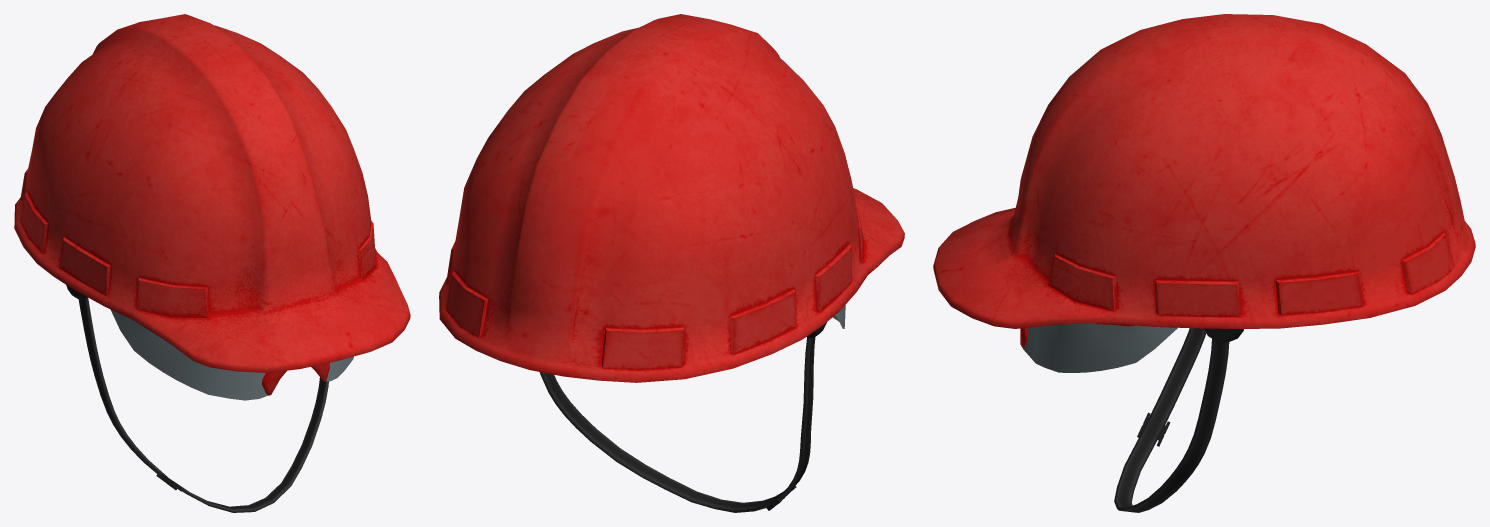
Rendered from CascoDielectrico.fbx.
3 views of the same model, side by side, from view 1: azimuth 30°, elevation 25°; view 2: azimuth 150°, elevation 25°; view 3: azimuth 270°, elevation 25° (orthographic). The views are drawn at different scales.
Visible parts, largest first — view 1: casco_dielectrico001, casco_dielectrico; view 2: casco_dielectrico001; view 3: casco_dielectrico001, casco_dielectrico.
Part boxes in pixels (<box>): casco_dielectrico001: <box>14,14,410,512</box>; casco_dielectrico: <box>110,309,353,400</box>; casco_dielectrico001: <box>439,14,904,512</box>; casco_dielectrico001: <box>933,14,1475,512</box>; casco_dielectrico: <box>1023,323,1177,372</box>.
Size of the model in its own units: 14.89 by 21.51 by 22.11.
Materials: 2 (2 with a texture image).
